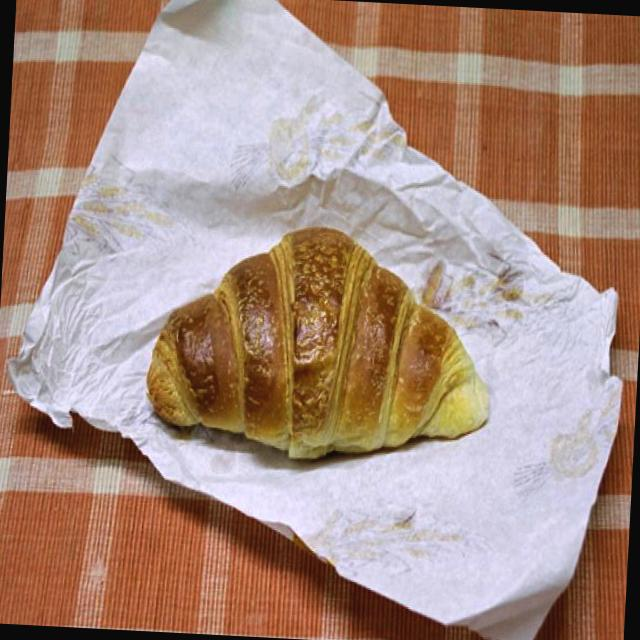Croissant: (133, 214, 506, 472)
